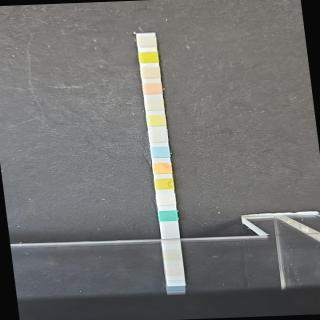mark: (140, 66, 160, 80), (139, 51, 159, 64), (142, 82, 162, 95), (156, 193, 176, 206), (145, 98, 164, 111), (149, 130, 168, 143), (137, 36, 157, 48), (150, 146, 170, 158), (154, 178, 174, 190), (158, 210, 178, 222), (153, 162, 172, 174), (147, 115, 166, 126)
